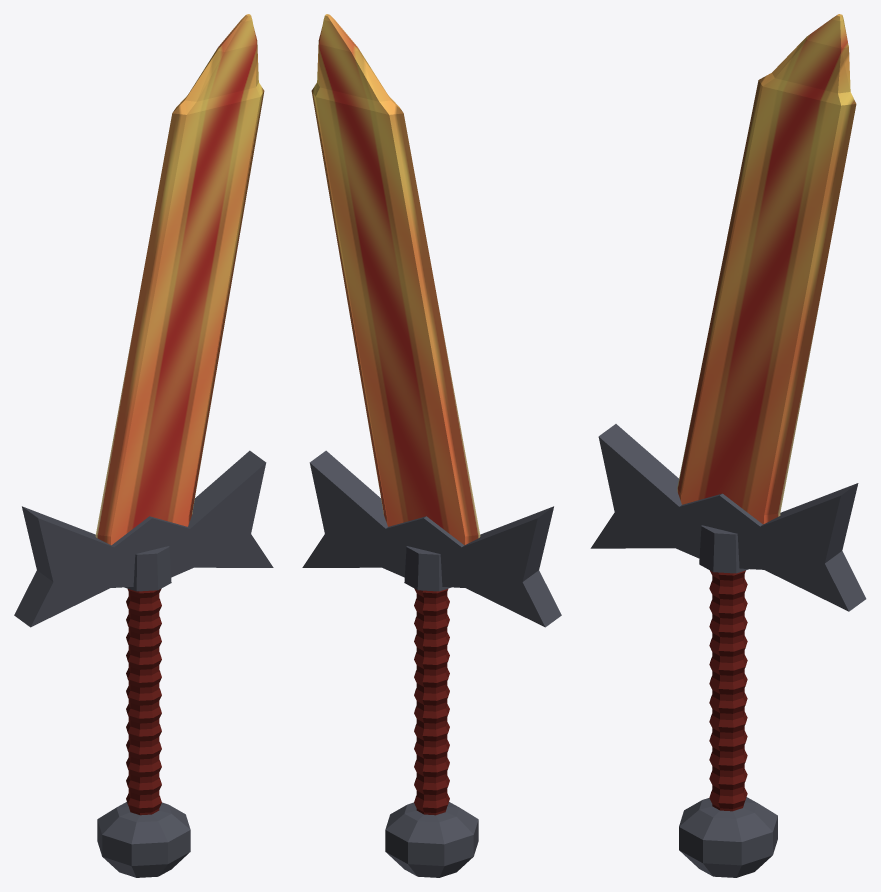
File: flame_saber.obj
The picture shows the model from 3 angles, left to right: view 1: azimuth 30°, elevation 25°; view 2: azimuth 150°, elevation 25°; view 3: azimuth 330°, elevation 25°; orthographic projection. The views are drawn at different scales.
Visible parts, largest first — view 1: A_Blade.001_flame_saber_blade, B_Guard.001_flame_saber_fittings, C_Grip.001_flame_saber_grip, C_Pommel.001_flame_saber_fittings, B_Collar.001_flame_saber_fittings; view 2: A_Blade.001_flame_saber_blade, B_Guard.001_flame_saber_fittings, C_Grip.001_flame_saber_grip, C_Pommel.001_flame_saber_fittings, B_Collar.001_flame_saber_fittings; view 3: A_Blade.001_flame_saber_blade, B_Guard.001_flame_saber_fittings, C_Grip.001_flame_saber_grip, C_Pommel.001_flame_saber_fittings, B_Collar.001_flame_saber_fittings.
Part boxes in pixels (x1,y1,x2,y2): A_Blade.001_flame_saber_blade: [95, 14, 264, 545]; B_Guard.001_flame_saber_fittings: [14, 450, 273, 627]; C_Grip.001_flame_saber_grip: [126, 588, 161, 815]; C_Pommel.001_flame_saber_fittings: [97, 802, 190, 877]; B_Collar.001_flame_saber_fittings: [124, 546, 171, 591]; A_Blade.001_flame_saber_blade: [311, 14, 480, 545]; B_Guard.001_flame_saber_fittings: [302, 450, 561, 627]; C_Grip.001_flame_saber_grip: [414, 588, 449, 815]; C_Pommel.001_flame_saber_fittings: [385, 802, 478, 877]; B_Collar.001_flame_saber_fittings: [404, 546, 451, 591]; A_Blade.001_flame_saber_blade: [677, 14, 856, 524]; B_Guard.001_flame_saber_fittings: [590, 424, 866, 611]; C_Grip.001_flame_saber_grip: [709, 570, 747, 811]; C_Pommel.001_flame_saber_fittings: [679, 797, 777, 877]; B_Collar.001_flame_saber_fittings: [699, 525, 749, 573].
Size of the model in its own units: 1.28 by 4.17 by 0.44.
